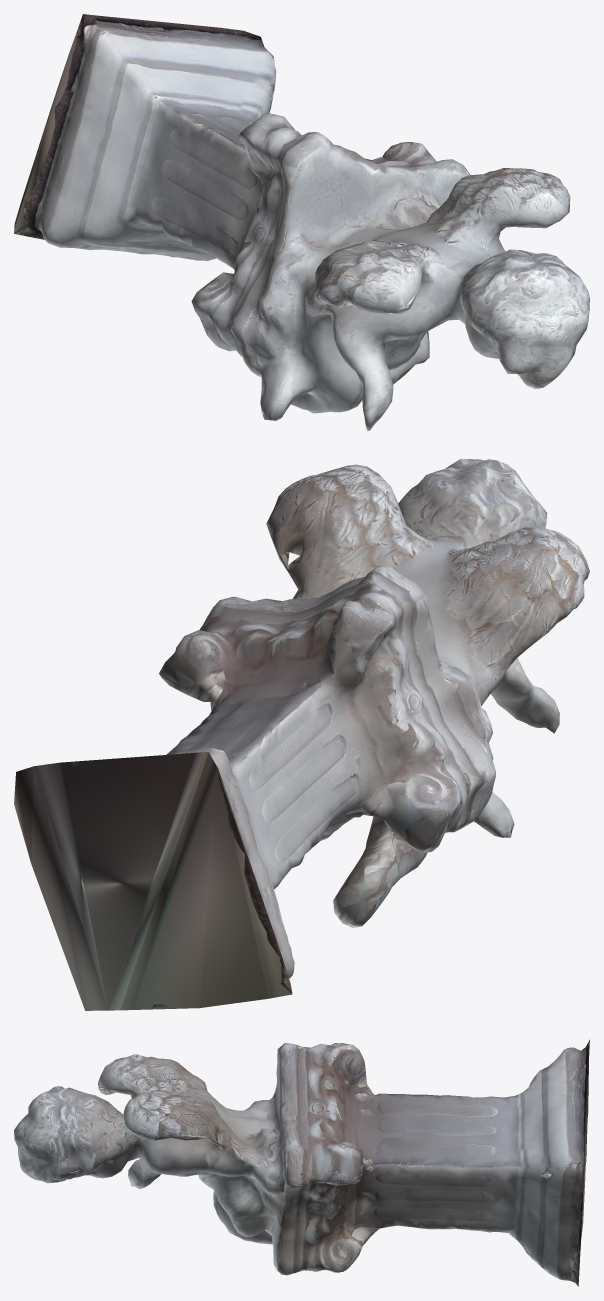
3 views of the same model, one above another, from view 1: azimuth 30°, elevation 25°; view 2: azimuth 150°, elevation 25°; view 3: azimuth 270°, elevation 25° (orthographic). The views are drawn at different scales.
Visible parts, largest first — view 1: Group_Global; view 2: Group_Global; view 3: Group_Global.
Boxes of the visible parts, left/top/right/bottom form: Group_Global: left=14, top=14, right=589, bottom=430; Group_Global: left=14, top=459, right=589, bottom=1010; Group_Global: left=14, top=1039, right=589, bottom=1286.
Size of the model in its own units: 0.3031 by 0.3079 by 0.7051.
1 material, 1 textured.
